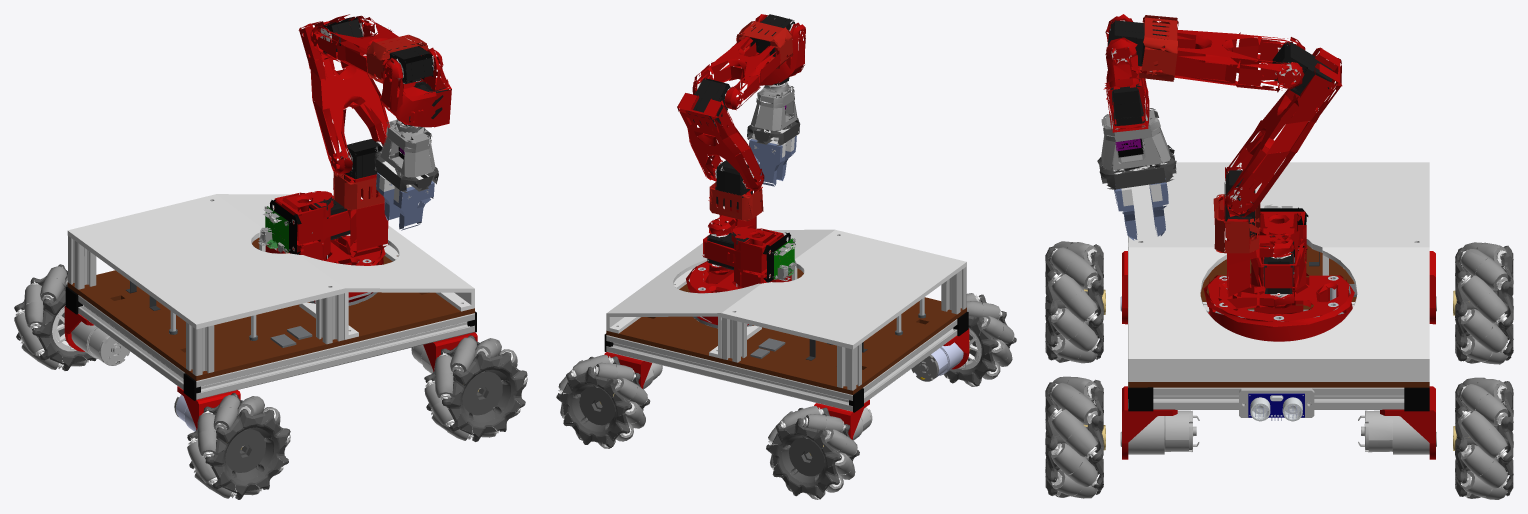
Rendered from arm_mecanum.glb.
The picture shows the model from 3 angles, left to right: view 1: azimuth 30°, elevation 25°; view 2: azimuth 150°, elevation 25°; view 3: azimuth 270°, elevation 25°; orthographic projection. The views are drawn at different scales.
Visible parts, largest first — view 1: base_link, arm, wheel_rf, wheel_rb, wheel_lb; view 2: base_link, arm, wheel_lb, wheel_lf, wheel_rb; view 3: base_link, arm, wheel_lb, wheel_lf, wheel_rf, wheel_rb, front_ultrasonic.
Boxes of the visible parts, box(x1,y1,x2,y2) form: base_link: box(64, 194, 477, 431); arm: box(258, 14, 451, 303); wheel_rf: box(424, 335, 527, 441); wheel_rb: box(187, 393, 290, 499); wheel_lb: box(14, 264, 96, 370); base_link: box(604, 229, 969, 440); arm: box(677, 14, 805, 325); wheel_lb: box(766, 406, 859, 499); wheel_lf: box(556, 355, 650, 448); wheel_rb: box(943, 293, 1016, 386); base_link: box(1120, 162, 1436, 459); arm: box(1097, 14, 1354, 341); wheel_lb: box(1453, 242, 1513, 364); wheel_lf: box(1453, 377, 1513, 499); wheel_rf: box(1045, 376, 1105, 498); wheel_rb: box(1045, 241, 1105, 363); front_ultrasonic: box(1239, 388, 1314, 421).
Size of the model in its own units: 0.3545 by 0.3904 by 0.3731.
